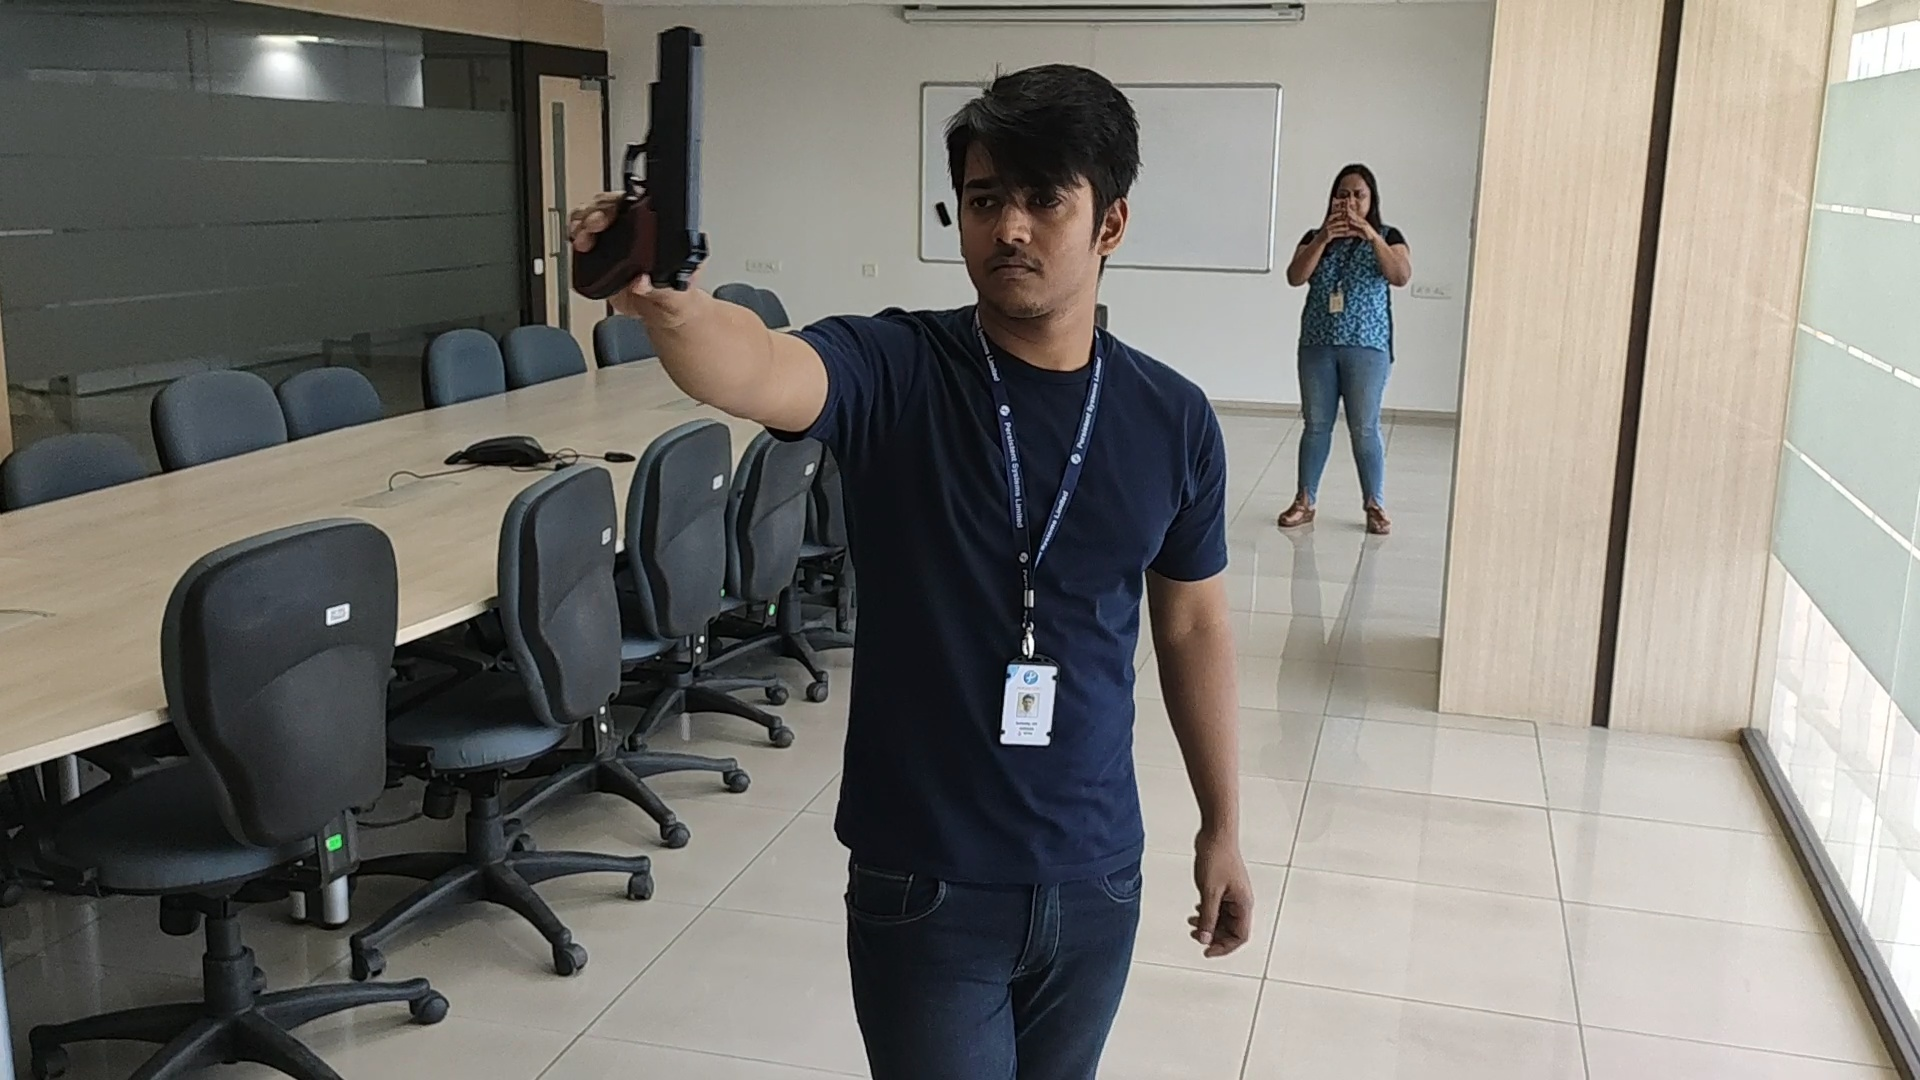gun: (570, 28, 715, 291)
